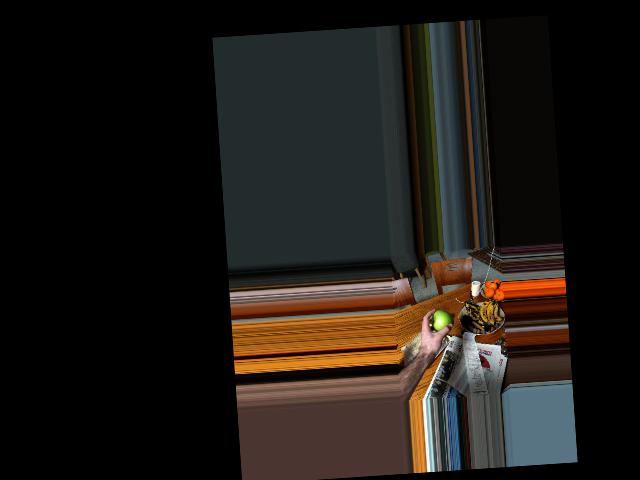apple: (431, 309, 450, 334)
